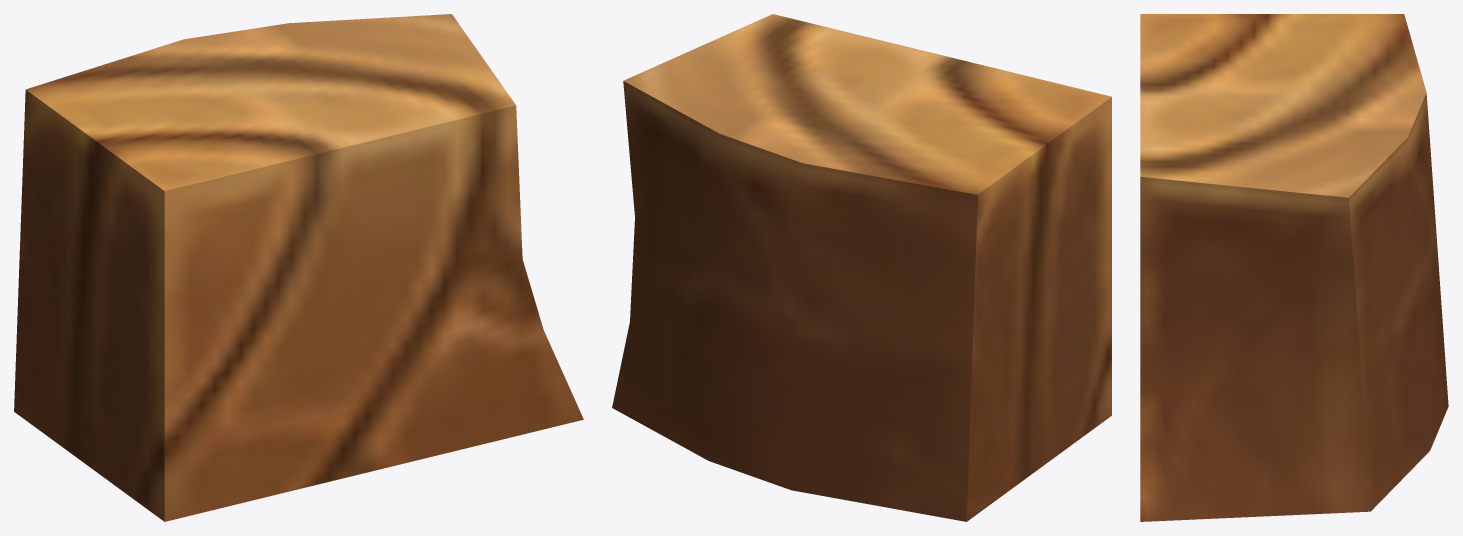
File: Stage_ShaMo_ZhuanKuai04.FBX
The picture shows the model from 3 angles, left to right: view 1: azimuth 30°, elevation 25°; view 2: azimuth 150°, elevation 25°; view 3: azimuth 270°, elevation 25°; orthographic projection. The views are drawn at different scales.
Visible parts, largest first — view 1: Stage_ShaMo_ZhuanKuai04; view 2: Stage_ShaMo_ZhuanKuai04; view 3: Stage_ShaMo_ZhuanKuai04.
Boxes of the visible parts, left/top/right/bottom form: Stage_ShaMo_ZhuanKuai04: left=14, top=14, right=583, bottom=521; Stage_ShaMo_ZhuanKuai04: left=612, top=14, right=1111, bottom=521; Stage_ShaMo_ZhuanKuai04: left=1140, top=14, right=1448, bottom=521.
Bounding box in the file's own units: 40.12 × 30.25 × 26.92.
